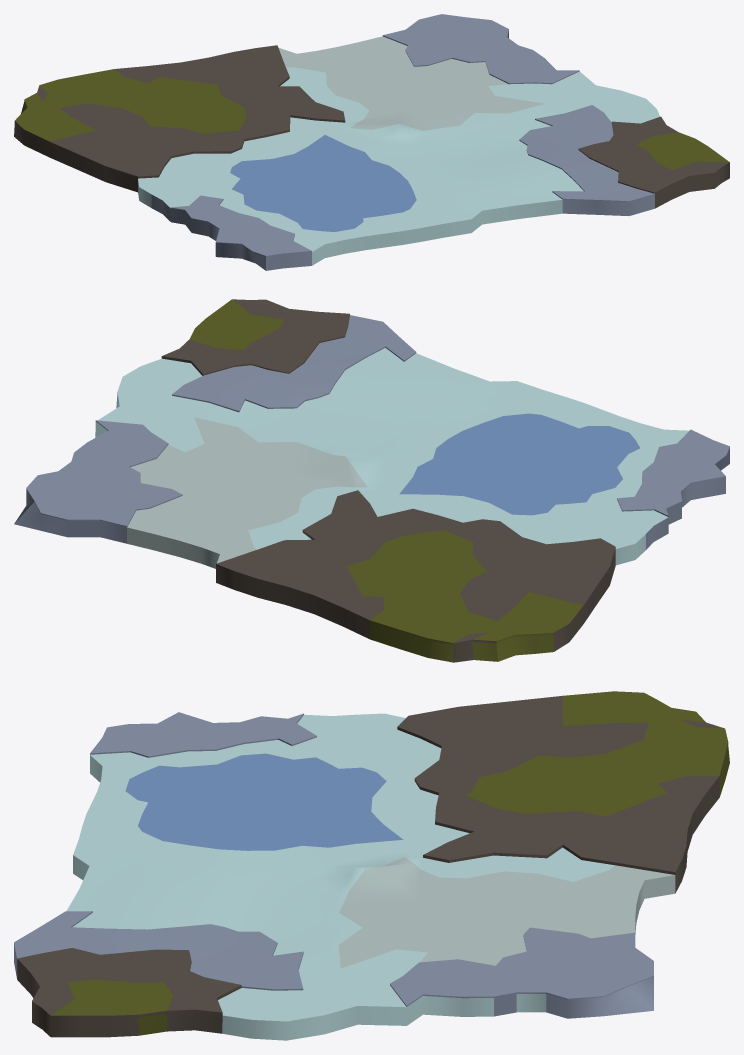
Rendered from Tundra.fbx.
The picture shows the model from 3 angles, top to bottom: view 1: azimuth 30°, elevation 25°; view 2: azimuth 150°, elevation 25°; view 3: azimuth 270°, elevation 25°; orthographic projection. The views are drawn at different scales.
Parts seen in each view (by area): view 1: pCube31; view 2: pCube31; view 3: pCube31.
Boxes of the visible parts, left/top/right/bottom form: pCube31: left=14, top=14, right=729, bottom=270; pCube31: left=14, top=299, right=729, bottom=662; pCube31: left=14, top=691, right=729, bottom=1040.
Size of the model in its own units: 49.42 by 2.05 by 45.61.
